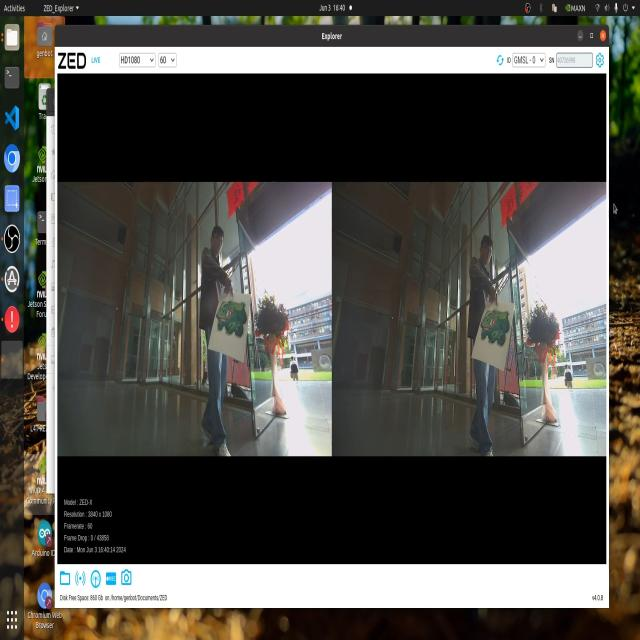green: (209, 290, 247, 344), (479, 293, 510, 352)
